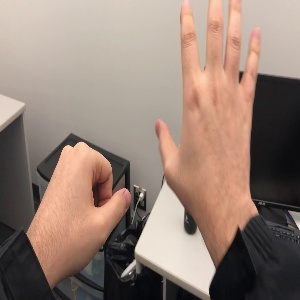hand: (155, 1, 261, 196), (37, 142, 130, 250)
